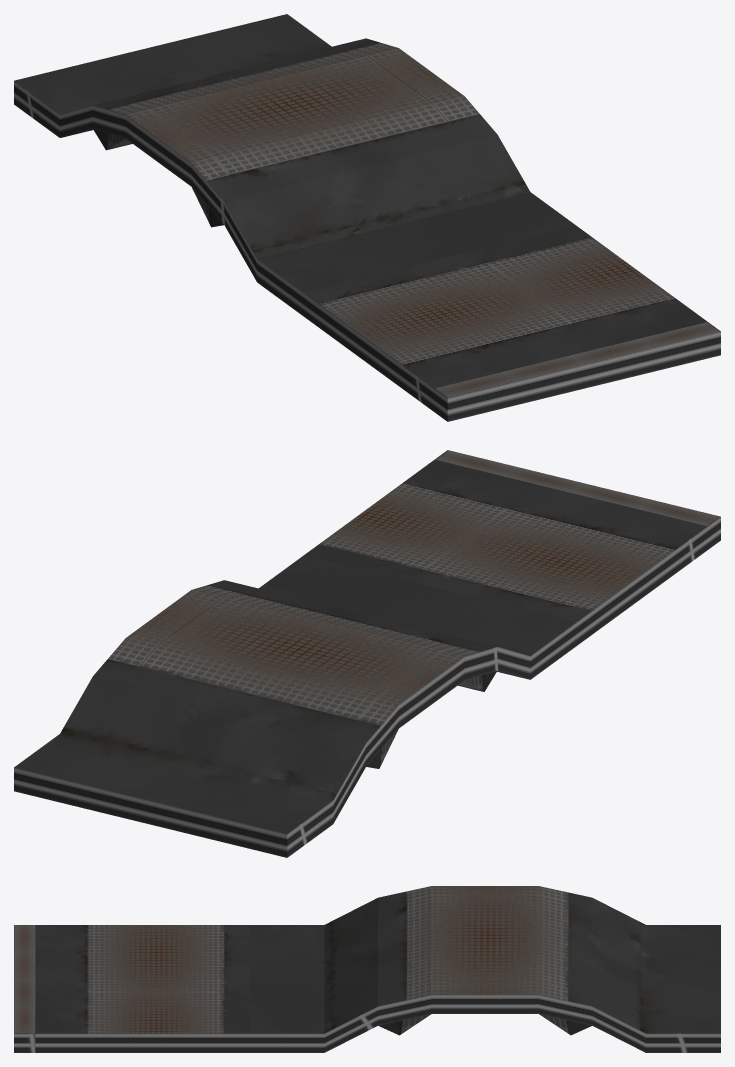
Rendered from SM_Roof_D.fbx.
3 views of the same model, one above another, from view 1: azimuth 30°, elevation 25°; view 2: azimuth 150°, elevation 25°; view 3: azimuth 270°, elevation 25° (orthographic). The views are drawn at different scales.
Parts seen in each view (by area): view 1: Roof_D; view 2: Roof_D; view 3: Roof_D.
Part boxes in pixels (left/top/right/bottom): Roof_D: left=14, top=14, right=720, bottom=421; Roof_D: left=14, top=450, right=720, bottom=857; Roof_D: left=14, top=886, right=720, bottom=1052.
Size of the model in its own units: 1.2 by 0.3 by 3.3.
